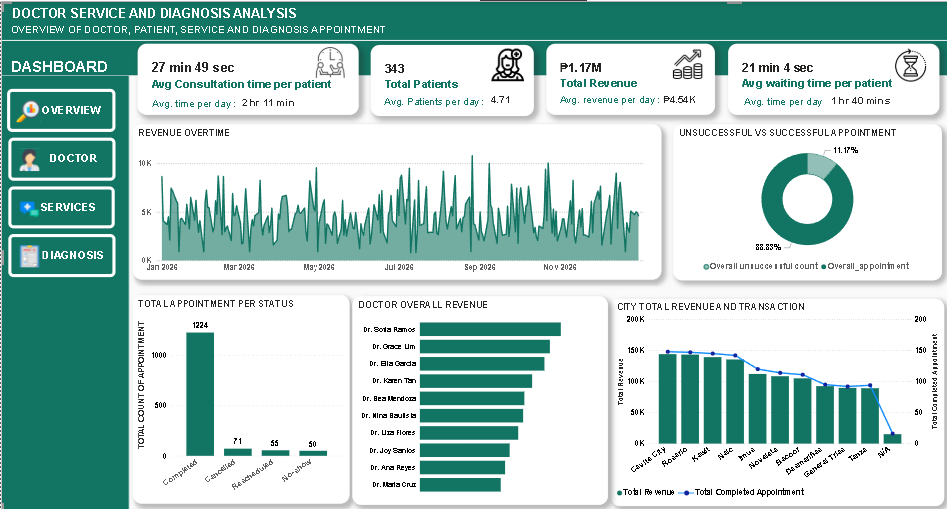

The page's visual inventory and layout, read from the dashboard file:
{"tool":"powerbi","page":{"name":"OVERVIEW","canvas":[2000,1080],"ordinal":0},"visuals":[{"type":"group","id":"g1","title":"Group 3","box":[0,0,3093.8,1080.4],"z":0},{"type":"shape","box":[0,0,270.6,1080.4],"z":0,"group":"g1"},{"type":"cardVisual","fields":{"Data":["Appointment_clean_data.Total Patients"]},"box":[779.1,91.9,343.9,150],"z":0,"group":"g2"},{"type":"cardVisual","fields":{"Data":["Appointment_clean_data.Avg Patient per day"]},"box":[1015.3,179.6,83.5,52.5],"z":500,"group":"g2"},{"type":"shape","box":[0,0,3093.8,157.5],"z":1000,"group":"g1"},{"type":"cardVisual","fields":{"Data":["Appointment_clean_data.Total Revenue"]},"box":[1150.2,91.2,355.4,150],"z":1000,"group":"g3"},{"type":"image","box":[1032,100.9,73.9,69.2],"z":1000,"group":"g2"},{"type":"textbox","box":[14.3,116.9,226.6,66.8],"z":1000},{"type":"cardVisual","fields":{"Data":["Appointment_clean_data.Avg waiting time per patient"]},"box":[1533.8,91.3,445.9,150],"z":2000,"group":"g5"},{"type":"lineChart","title":"REVENUE OVERTIME","fields":{"Category":["Appointment_clean_data.appointment_date.Variation.Date Hierarchy.Year","Appointment_clean_data.appointment_date.Variation.Date Hierarchy.Month","Appointment_clean_data.appointment_date.Variation.Date Hierarchy.Day"],"Y":["Appointment_clean_data.Total Revenue"]},"box":[278.3,260.9,1115.9,328],"z":2000},{"type":"cardVisual","fields":{"Data":["Appointment_clean_data.Avg Consultation time per patient"]},"box":[289.3,90.9,466.3,150],"z":3000,"group":"g4"},{"type":"image","box":[1871,101.1,96.2,70],"z":3000,"group":"g5"},{"type":"actionButton","box":[12.4,184.9,229,90.7],"z":3000,"group":"g1"},{"type":"textbox","box":[802.9,191.5,229,38.2],"z":3000,"group":"g2"},{"type":"donutChart","title":"UNSUCCESSFUL VS SUCCESSFUL APPOINTMENT","fields":{"Y":["Appointment_clean_data.Overall unsuccessful count","Appointment_clean_data.Overall unsuccessful count","Appointment_clean_data.Overall_appointment"]},"box":[1419.1,260.9,567.5,329.2],"z":3000},{"type":"group","id":"g2","title":"Group 1","box":[779.1,91.9,343.9,150],"z":4000},{"type":"image","box":[1410.1,102,76.3,66.8],"z":4000,"group":"g3"},{"type":"textbox","box":[1562.4,193.9,209.9,38.2],"z":4000,"group":"g5"},{"type":"group","id":"g3","title":"Group 2","box":[1150.2,91.2,355.4,150],"z":5000},{"type":"actionButton","box":[14.7,287.5,226.6,90.7],"z":5000,"group":"g1"},{"type":"clusteredColumnChart","title":"TOTAL APPOINTMENT PER STATUS","fields":{"Category":["Appointment_clean_data.appointment_status"],"Y":["Appointment_clean_data.Overall_appointment"]},"box":[278.3,621.3,457.3,439.9],"z":6000},{"type":"image","box":[656.7,95.7,76.3,69.2],"z":7000,"group":"g4"},{"type":"cardVisual","fields":{"Data":["Appointment_clean_data.Avg revenue per day"]},"box":[1379.7,179,122.4,61.2],"z":7000,"group":"g3"},{"type":"cardVisual","fields":{"Data":["Appointment_clean_data.Average hour waiting"]},"box":[1735.7,186.2,163.6,50.5],"z":7000,"group":"g5"},{"type":"lineClusteredColumnComboChart","title":"CITY TOTAL REVENUE AND TRANSACTION","fields":{"Category":["Patient_clean_data.city_municipality"],"Y":["Appointment_clean_data.Total Revenue"],"Y2":["Appointment_clean_data.Total Completed transaction"]},"box":[1287.3,628.8,703.3,437.4],"z":7000},{"type":"group","id":"g4","title":"Group 4","box":[289.3,90.9,466.3,150],"z":8000},{"type":"group","id":"g5","title":"Group 5","box":[1533.8,91.3,445.9,150],"z":9000},{"type":"textbox","box":[1172.8,190.7,224.4,40.8],"z":9000,"group":"g3"},{"type":"clusteredBarChart","title":"DOCTOR OVERALL REVENUE","fields":{"Category":["Doctor_clean_data.doctor_name"],"Y":["Appointment_clean_data.Total Revenue","Appointment_clean_data.Total Revenue"]},"box":[740.6,623.8,539.3,439.9],"z":10000},{"type":"textbox","box":[313.9,197.8,195.6,38.2],"z":10500,"group":"g4"},{"type":"actionButton","box":[14.7,392.4,224.2,88.2],"z":11000,"group":"g1"},{"type":"actionButton","box":[14.7,492.6,226.6,90.7],"z":12000,"group":"g1"},{"type":"cardVisual","fields":{"Data":["Appointment_clean_data.Average Hours"]},"box":[492.8,188.3,155.1,52.5],"z":12500,"group":"g4"},{"type":"textbox","box":[16.8,6.3,677.3,58.9],"z":13000,"group":"g1"},{"type":"shape","box":[0,69.6,2000.6,27.3],"z":14000,"group":"g1"},{"type":"textbox","box":[16.2,44.4,817.9,42.4],"z":15000,"group":"g1"}]}

Visuals, with their boxes in screenshot pixels (x1, y1, x2, y2), scaled from the page's 2000x1080 canvas onto the 947x509 screenshot:
"Group 3" group: 0/0/946/508
shape: 0/0/128/508
cardVisual - Appointment_clean_data.Total Patients: 369/43/532/114
cardVisual - Appointment_clean_data.Avg Patient per day: 481/85/520/109
shape: 0/0/946/74
cardVisual - Appointment_clean_data.Total Revenue: 545/43/713/114
image: 489/48/524/80
textbox: 7/55/114/87
cardVisual - Appointment_clean_data.Avg waiting time per patient: 726/43/937/114
"REVENUE OVERTIME" lineChart: 132/123/660/278
cardVisual - Appointment_clean_data.Avg Consultation time per patient: 137/43/358/114
image: 886/48/931/81
actionButton: 6/87/114/130
textbox: 380/90/489/108
"UNSUCCESSFUL VS SUCCESSFUL APPOINTMENT" donutChart: 672/123/941/278
"Group 1" group: 369/43/532/114
image: 668/48/704/80
textbox: 740/91/839/109
"Group 2" group: 545/43/713/114
actionButton: 7/135/114/178
"TOTAL APPOINTMENT PER STATUS" clusteredColumnChart: 132/293/348/500
image: 311/45/347/78
cardVisual - Appointment_clean_data.Avg revenue per day: 653/84/711/113
cardVisual - Appointment_clean_data.Average hour waiting: 822/88/899/112
"CITY TOTAL REVENUE AND TRANSACTION" lineClusteredColumnComboChart: 610/296/943/502
"Group 4" group: 137/43/358/114
"Group 5" group: 726/43/937/114
textbox: 555/90/662/109
"DOCTOR OVERALL REVENUE" clusteredBarChart: 351/294/606/501
textbox: 149/93/241/111
actionButton: 7/185/113/227
actionButton: 7/232/114/275
cardVisual - Appointment_clean_data.Average Hours: 233/89/307/113
textbox: 8/3/329/31
shape: 0/33/946/46
textbox: 8/21/395/41
